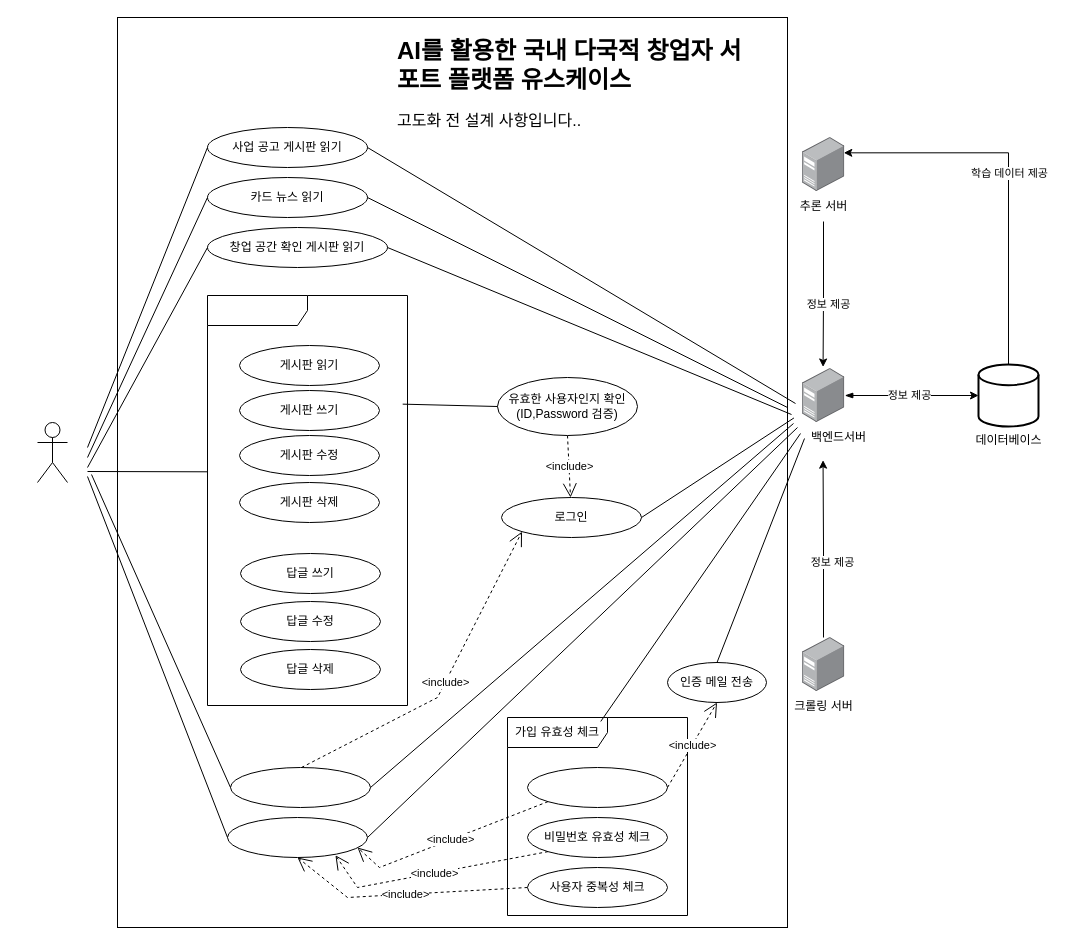
Some shapes in this 1076 by 945 pixel diagram are drawn without their labels. Here are the shapes that lost their labels. From the top down, the centre of each, then its label:
At pixel 52 452: "다국적 사용자".
At pixel 307 500: "경험 공유 게시판".
At pixel 300 787: "챗봇 상담 요청".
At pixel 597 787: "이메일 사용자 인증".
At pixel 297 837: "회원가입".
